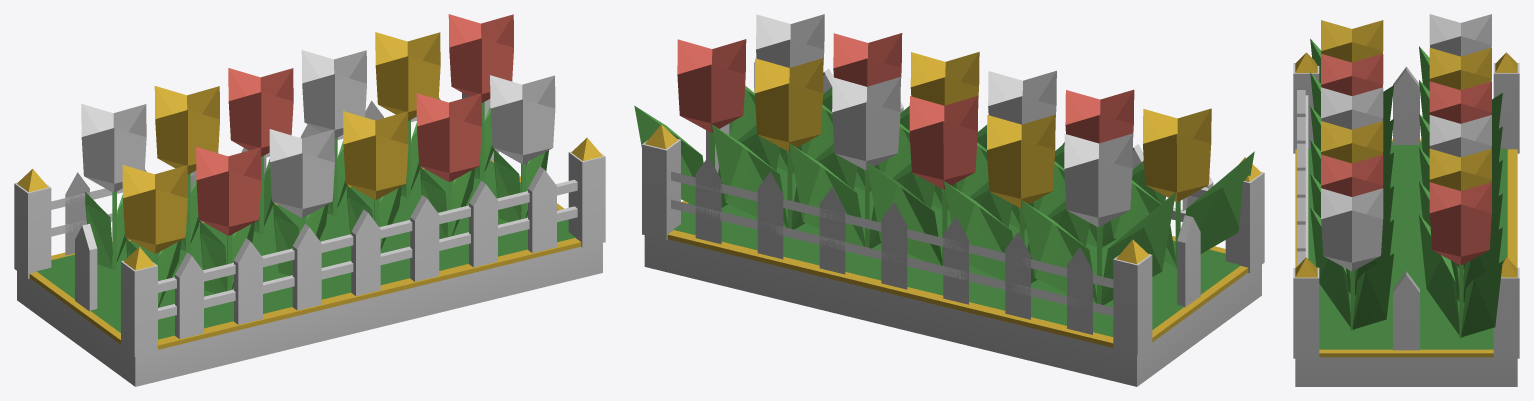
Rendered from tulip-bed.glb.
3 views of the same model, side by side, from view 1: azimuth 30°, elevation 25°; view 2: azimuth 150°, elevation 25°; view 3: azimuth 270°, elevation 25° (orthographic). The views are drawn at different scales.
Parts seen in each view (by area): view 1: root_mesh, bob0_mesh, bob1_mesh; view 2: root_mesh, bob0_mesh, bob1_mesh; view 3: root_mesh, bob1_mesh, bob0_mesh.
Boxes of the visible parts, x1=… form: root_mesh: x1=14, y1=92, x2=605, y2=386; bob0_mesh: x1=81, y1=32, x2=481, y2=307; bob1_mesh: x1=154, y1=14, x2=555, y2=293; root_mesh: x1=642, y1=62, x2=1264, y2=386; bob0_mesh: x1=711, y1=33, x2=1254, y2=304; bob1_mesh: x1=634, y1=14, x2=1165, y2=283; root_mesh: x1=1293, y1=52, x2=1519, y2=386; bob1_mesh: x1=1310, y1=47, x2=1502, y2=338; bob0_mesh: x1=1310, y1=14, x2=1502, y2=302.
Size of the model in its own units: 2.1 by 0.8 by 0.9.
